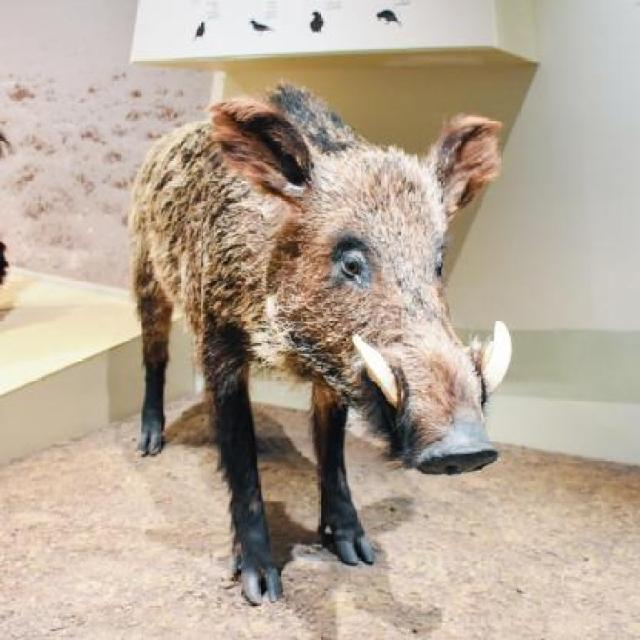wildboar: (118, 71, 527, 615)
